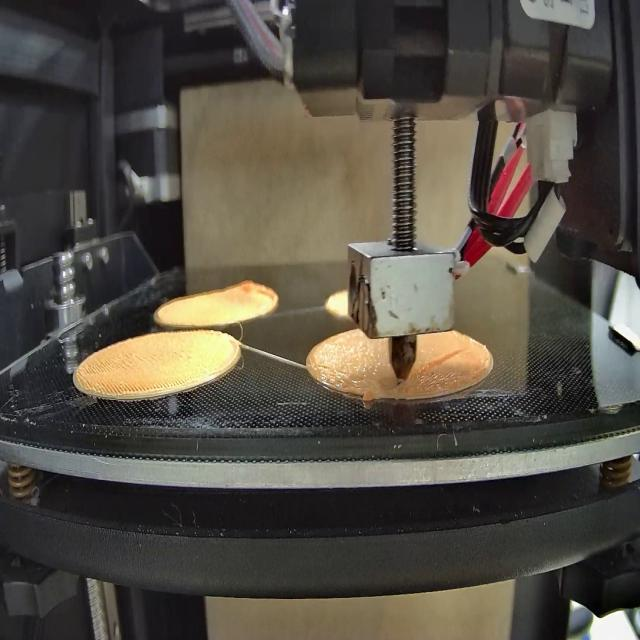over_extrusion: (413, 345, 465, 382), (238, 273, 279, 309), (385, 378, 400, 397)
